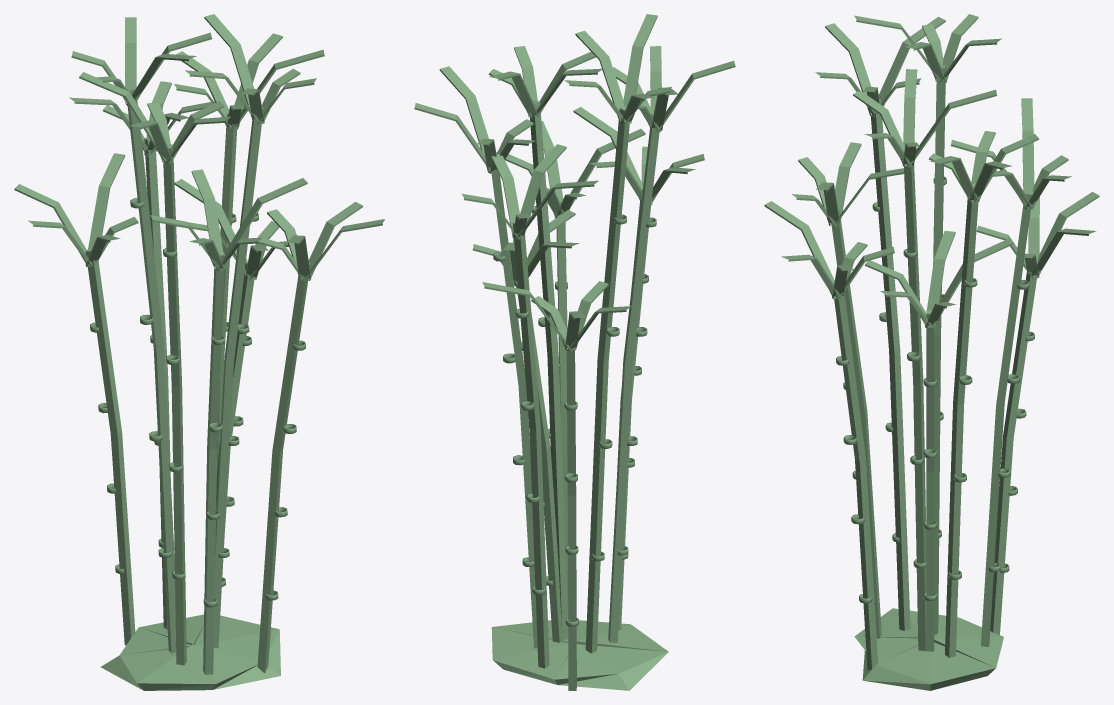
Rendered from bamboo-clump.glb.
3 views of the same model, side by side, from view 1: azimuth 30°, elevation 25°; view 2: azimuth 150°, elevation 25°; view 3: azimuth 270°, elevation 25° (orthographic). The views are drawn at different scales.
Visible parts, largest first — view 1: bamboo-clump; view 2: bamboo-clump; view 3: bamboo-clump.
Boxes of the visible parts, bbox=[...] form: bamboo-clump: bbox=[14, 14, 384, 690]; bamboo-clump: bbox=[414, 14, 735, 690]; bamboo-clump: bbox=[764, 14, 1099, 690].
Bounding box in the file's own units: 1.73 × 4.32 × 2.1.
